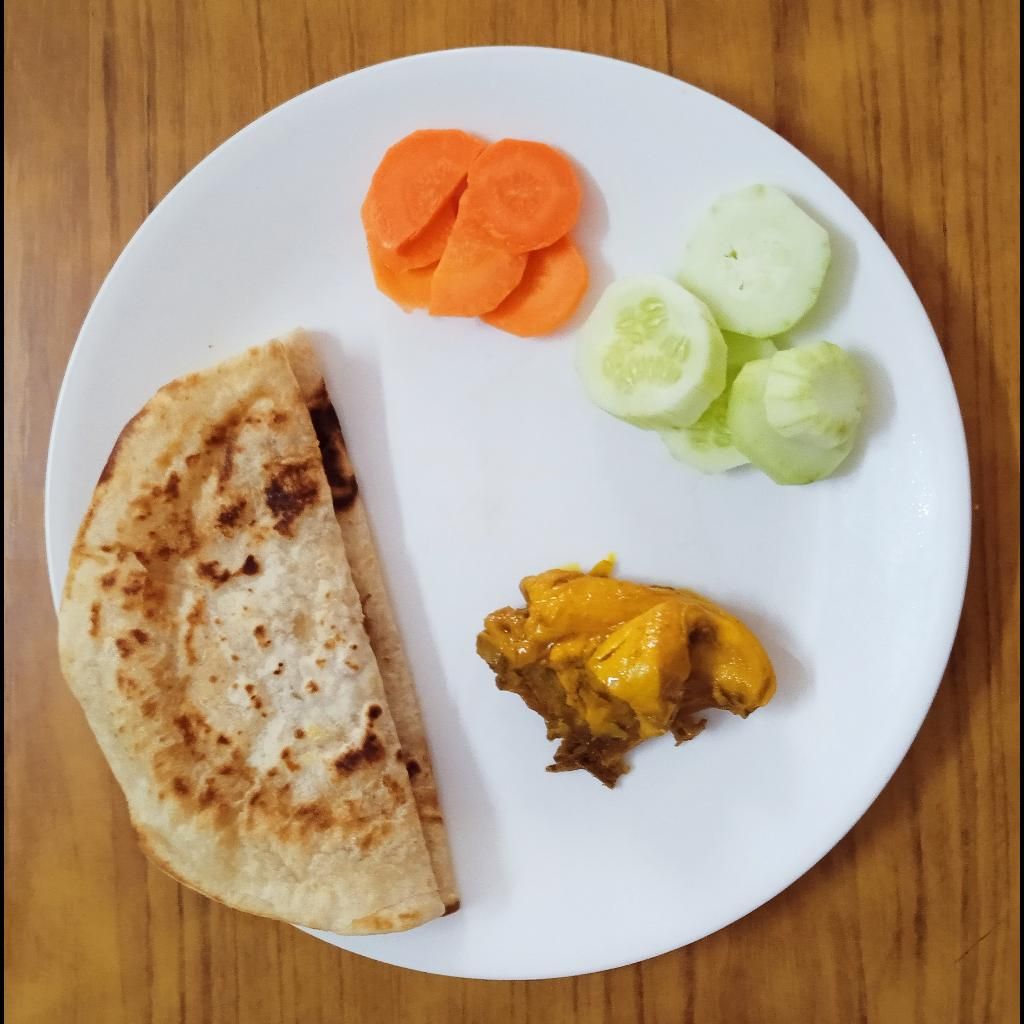carrot: (358, 127, 586, 339)
chicken: (477, 557, 771, 790)
cucumber: (568, 182, 873, 484)
ruti: (52, 320, 465, 941)
